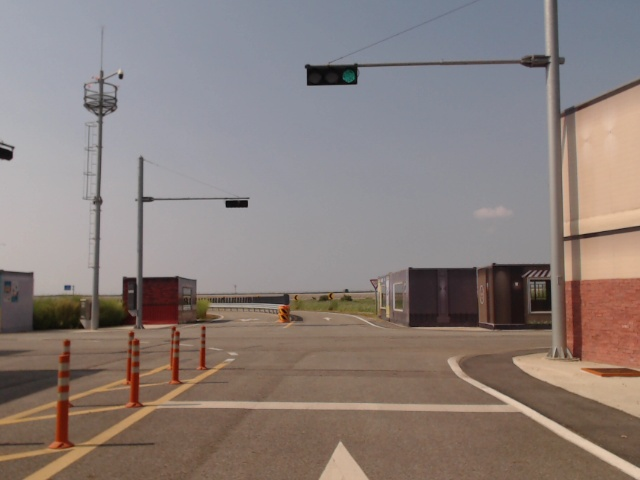green_3: (307, 66, 358, 85)
